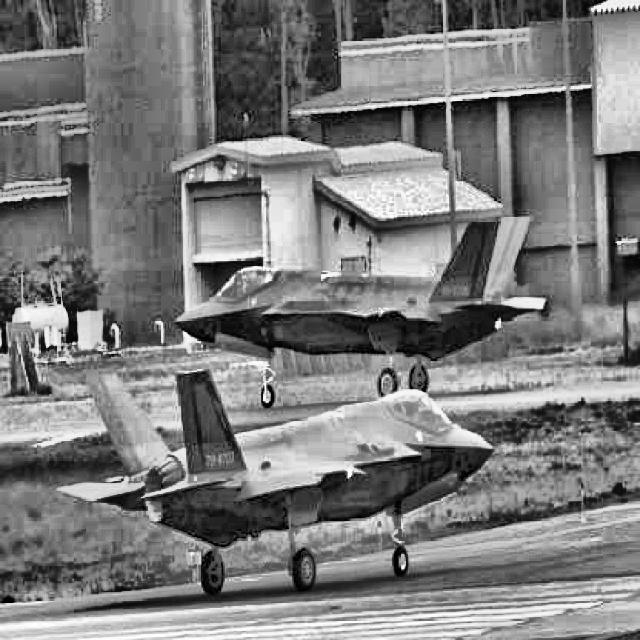F35: (56, 368, 495, 595), (173, 216, 547, 409)
